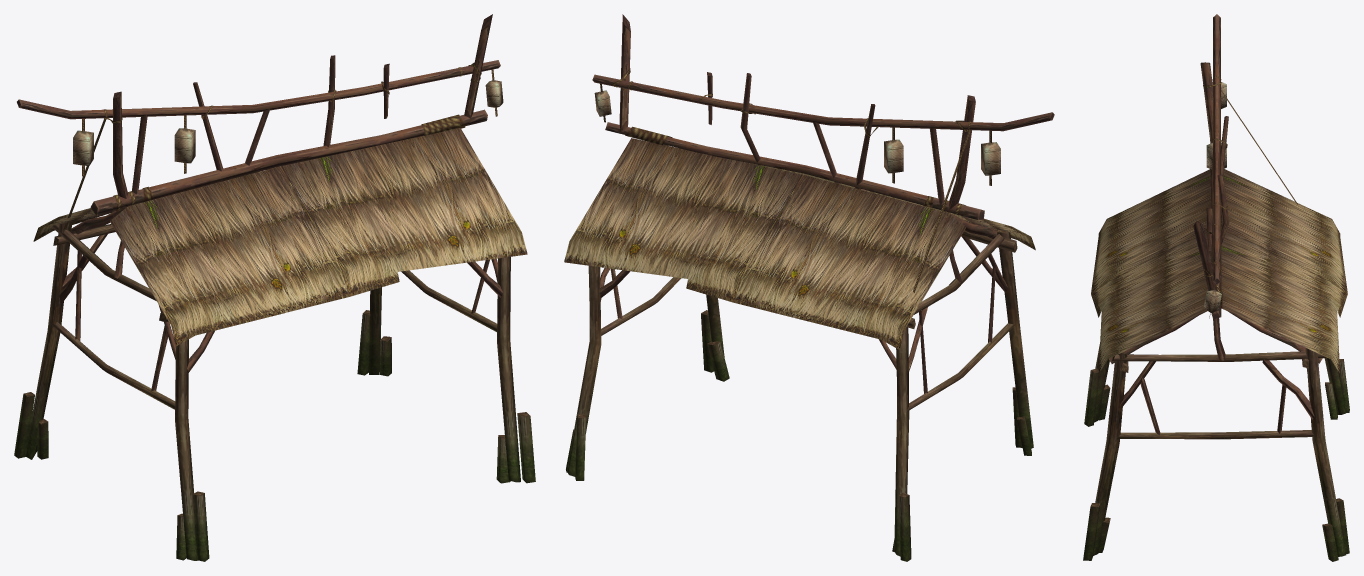
Rendered from Maincity03_Building_07_LOD0.FBX.
The picture shows the model from 3 angles, left to right: view 1: azimuth 30°, elevation 25°; view 2: azimuth 150°, elevation 25°; view 3: azimuth 270°, elevation 25°; orthographic projection. The views are drawn at different scales.
Visible parts, largest first — view 1: QYZ_CMC_A_07_LOD0; view 2: QYZ_CMC_A_07_LOD0; view 3: QYZ_CMC_A_07_LOD0.
Boxes of the visible parts, bbox=[...] form: QYZ_CMC_A_07_LOD0: bbox=[14, 14, 535, 561]; QYZ_CMC_A_07_LOD0: bbox=[564, 14, 1054, 561]; QYZ_CMC_A_07_LOD0: bbox=[1083, 14, 1349, 561].
Bounding box in the file's own units: 1674 × 1439 × 950.
